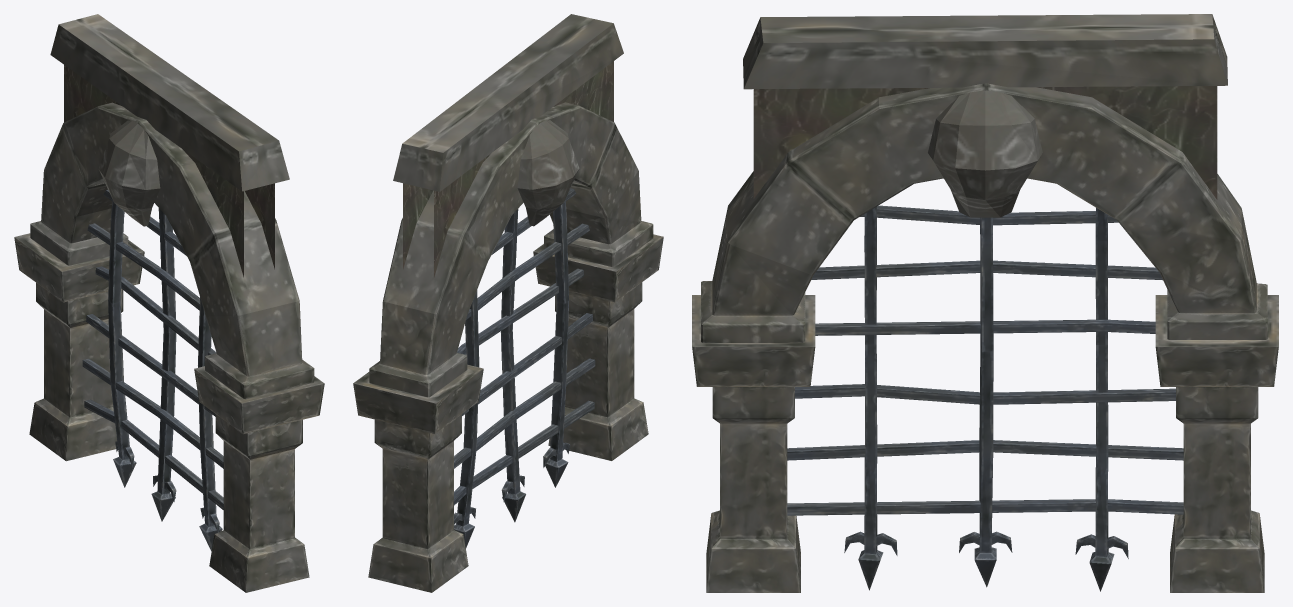
File: Gate_close.obj
3 views of the same model, side by side, from view 1: azimuth 30°, elevation 25°; view 2: azimuth 150°, elevation 25°; view 3: azimuth 270°, elevation 25° (orthographic). The views are drawn at different scales.
Parts seen in each view (by area): view 1: Gate_close; view 2: Gate_close; view 3: Gate_close.
Part boxes in pixels (box(x1,y1,x2,y2)): Gate_close: box(14, 14, 324, 592); Gate_close: box(353, 14, 663, 592); Gate_close: box(692, 14, 1278, 592).
Size of the model in its own units: 4.14 by 13.42 by 12.66.
